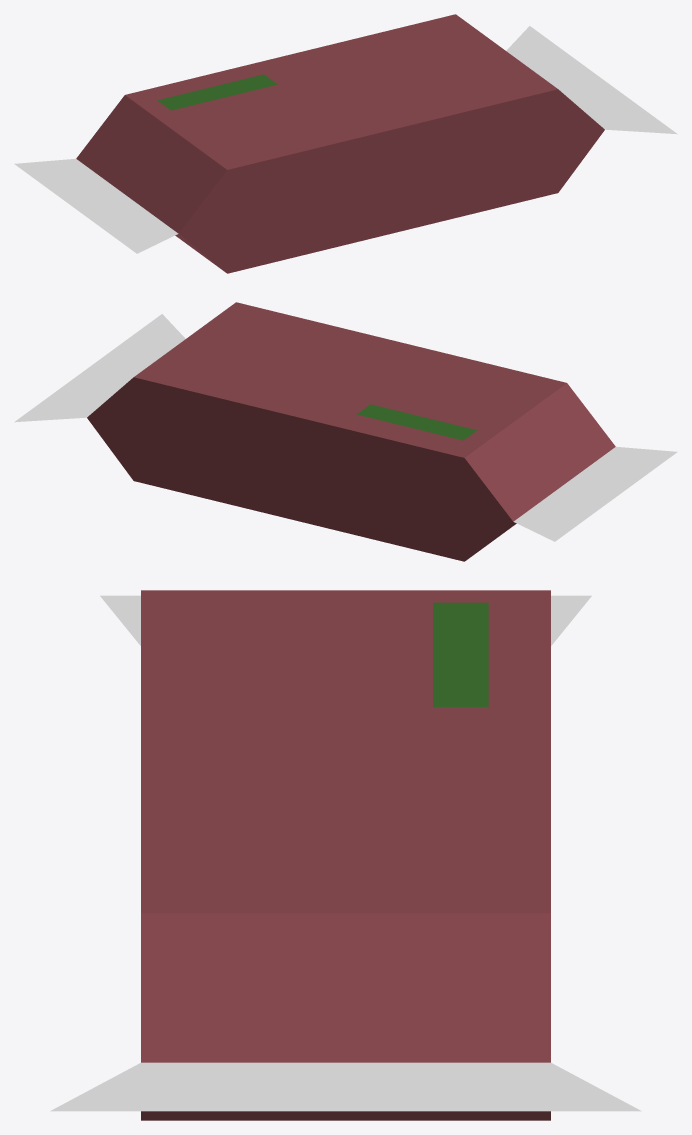
File: i_strawberrybar_bio.glb
3 views of the same model, one above another, from view 1: azimuth 30°, elevation 25°; view 2: azimuth 150°, elevation 25°; view 3: azimuth 270°, elevation 25° (orthographic). The views are drawn at different scales.
Visible parts, largest first — view 1: Cube, Plane; view 2: Cube, Plane; view 3: Cube, Plane.
Part boxes in pixels (x1,y1,x2,y2): Cube: (14,14,677,273); Plane: (157,74,277,110); Cube: (14,302,677,561); Plane: (357,404,476,440); Cube: (50,590,641,1120); Plane: (433,602,488,706).
Size of the model in its own units: 1.15 by 0.2198 by 0.5588.
